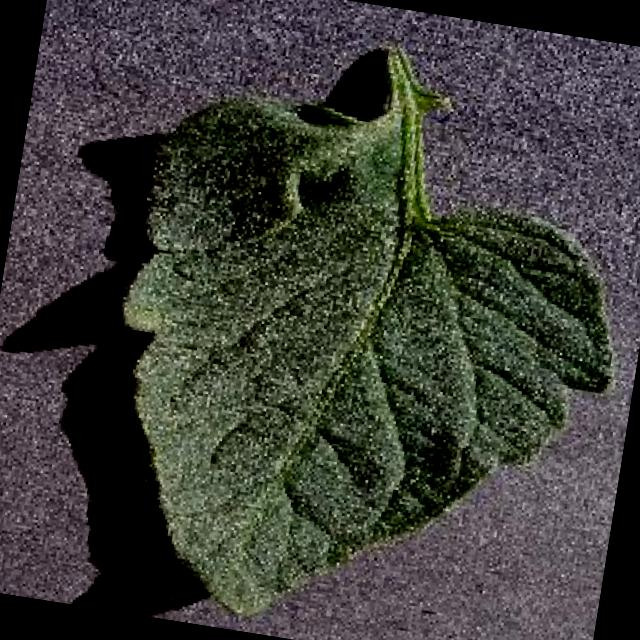healthy: (124, 44, 613, 627)
